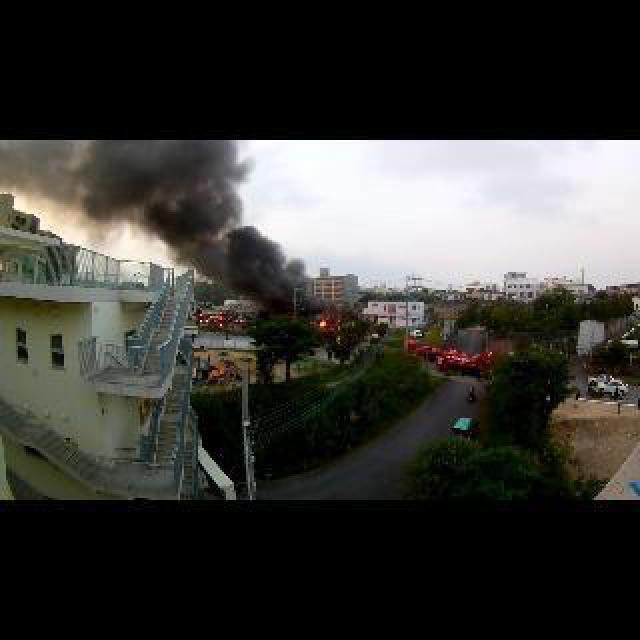Fire: (318, 320, 328, 326)
Smoke: (8, 140, 312, 312)
